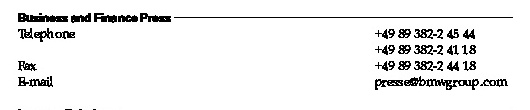table: (0, 0, 530, 110)
